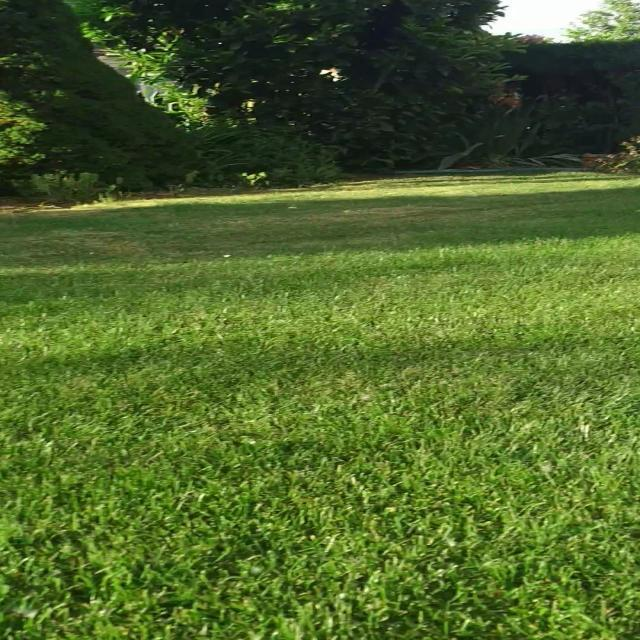lawn: (0, 174, 640, 640)
